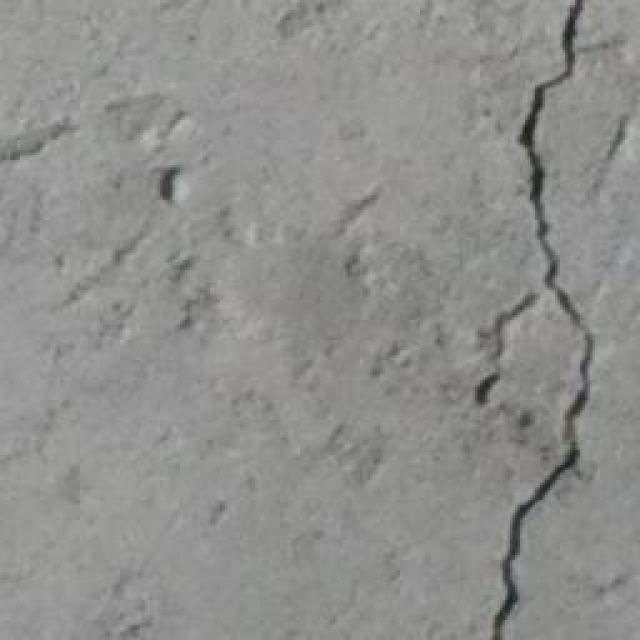Radial: (461, 0, 608, 640)
